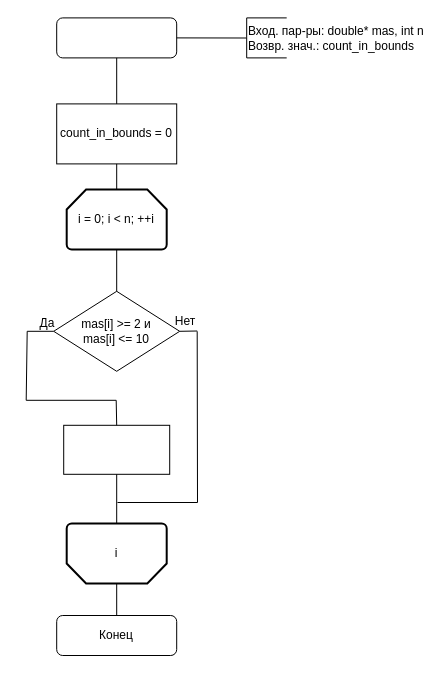
Some shapes in this 444 by 673 pixel diagram are drawn without their labels. The shapes that lost their labels are listed below. From the top down, each one's centre as x and y in pixels, then its label:
At (x=116, y=37): "count_in_bounds".
At (x=116, y=449): "count_in_bounds = count_in_bounds+1".
